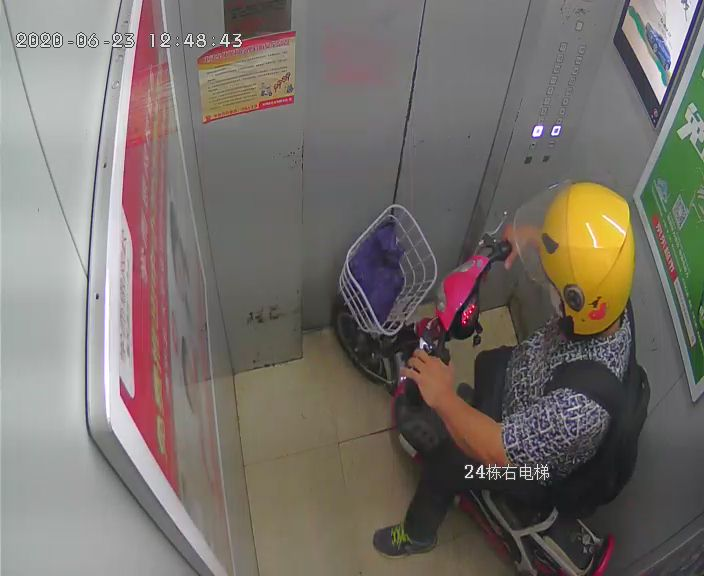Electric-bicycle: (342, 207, 616, 567)
